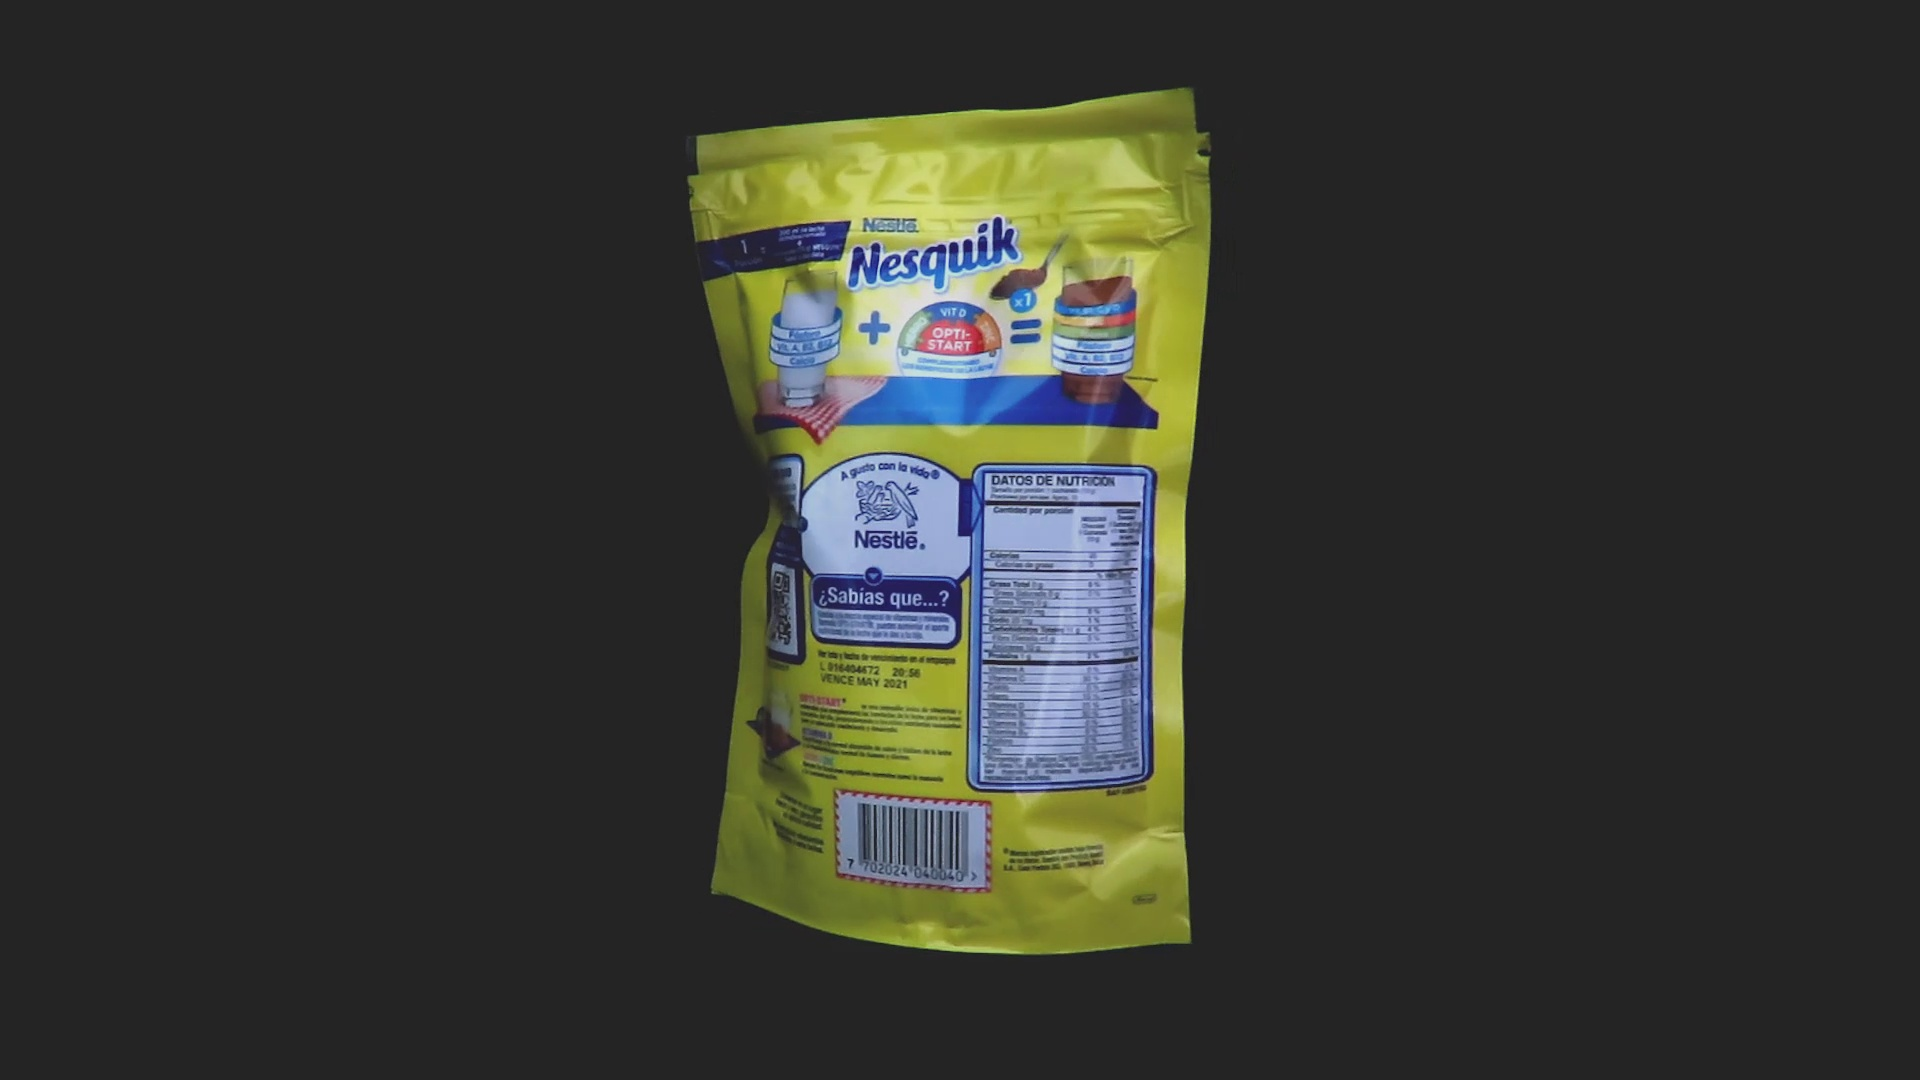COL0170303DYP20000: (682, 82, 1217, 961)
